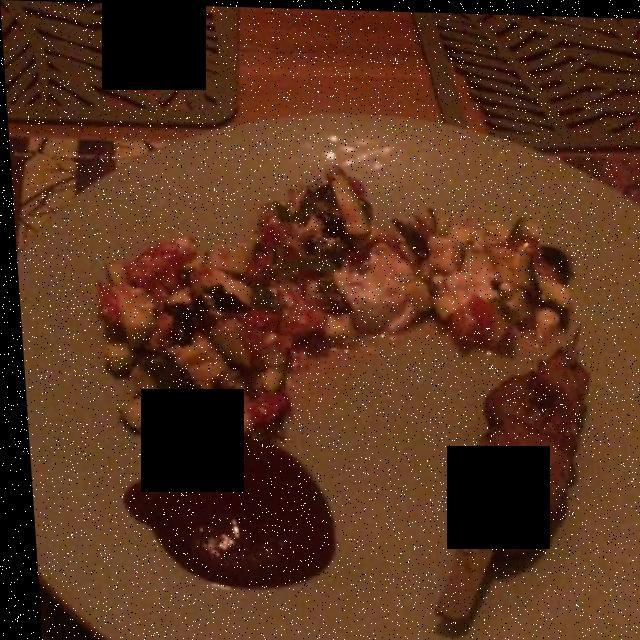beef: (458, 361, 573, 568)
cheese: (105, 220, 565, 426)
tomato: (89, 175, 495, 423)
